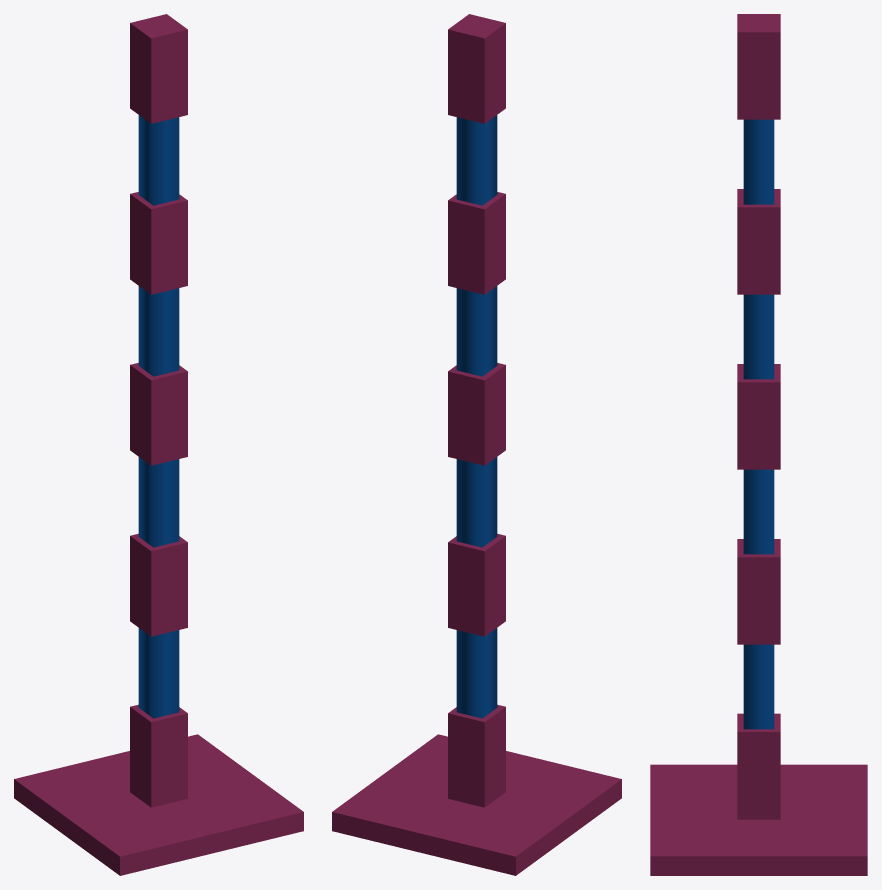
File: lamp_light.FBX
The picture shows the model from 3 angles, left to right: view 1: azimuth 30°, elevation 25°; view 2: azimuth 150°, elevation 25°; view 3: azimuth 270°, elevation 25°; orthographic projection. The views are drawn at different scales.
Parts seen in each view (by area): view 1: lamp; view 2: lamp; view 3: lamp.
Part boxes in pixels (box(x1,y1,x2,y2)): lamp: box(14, 14, 303, 875); lamp: box(332, 14, 621, 875); lamp: box(650, 14, 867, 875).
Bounding box in the file's own units: 5000 × 20500 × 5000.
